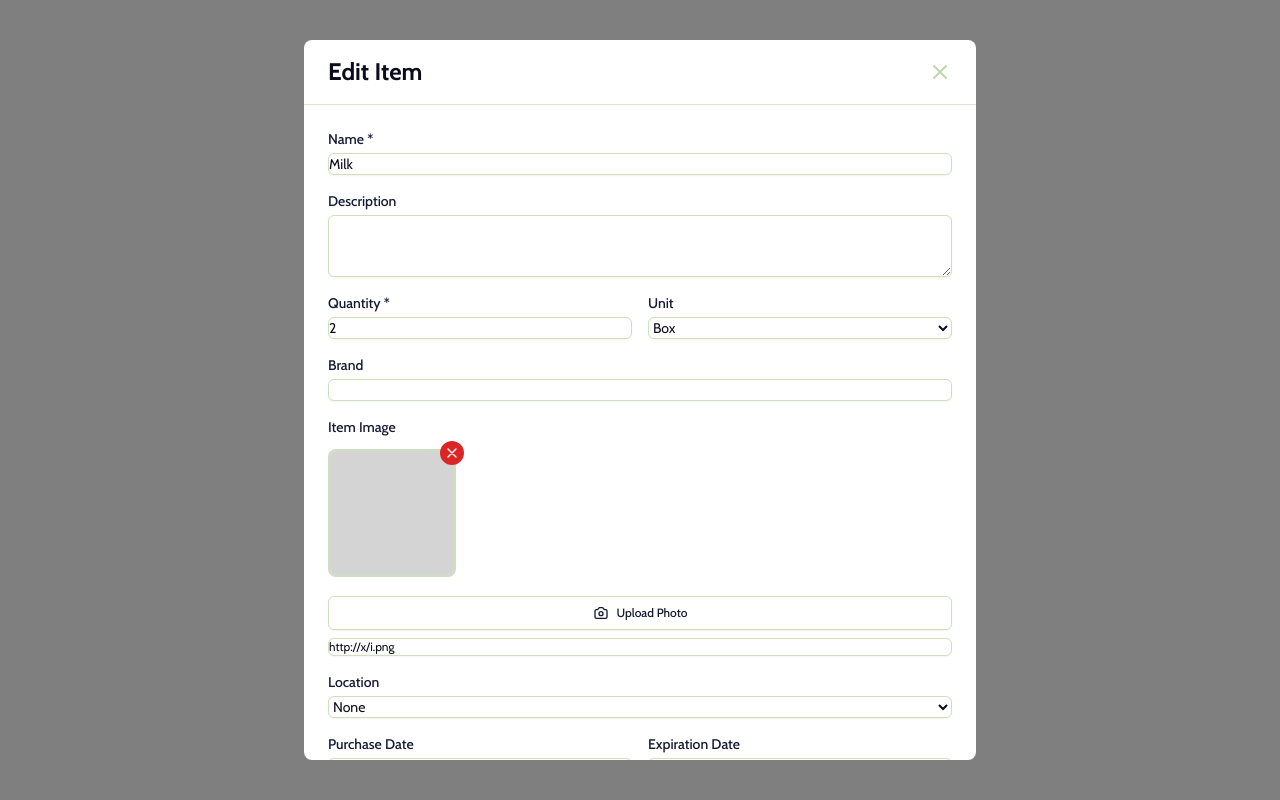
Test: EditItemModal › shows the existing image preview and removes it
Click the button titled "Remove image". click: (452, 453)
box: [440,441,464,465]
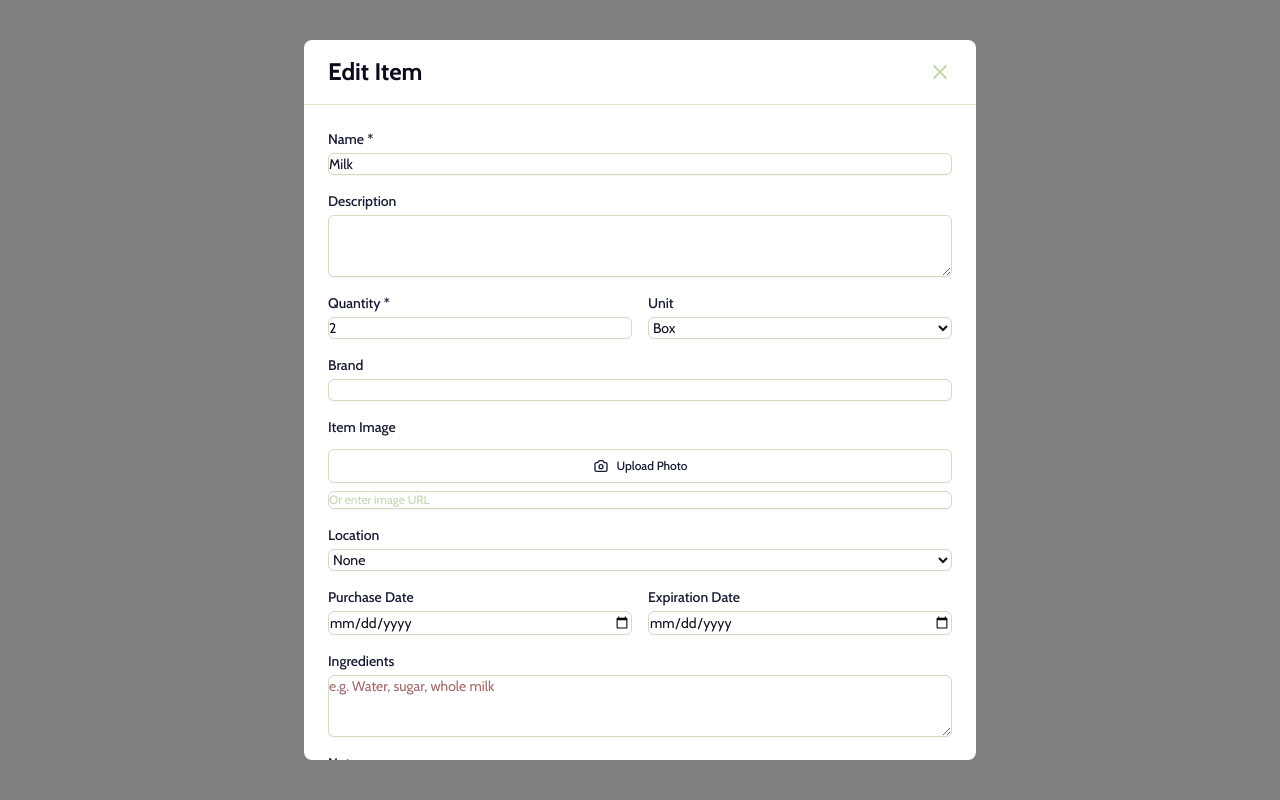
Expected: the picture with alt text "Preview" is gone
